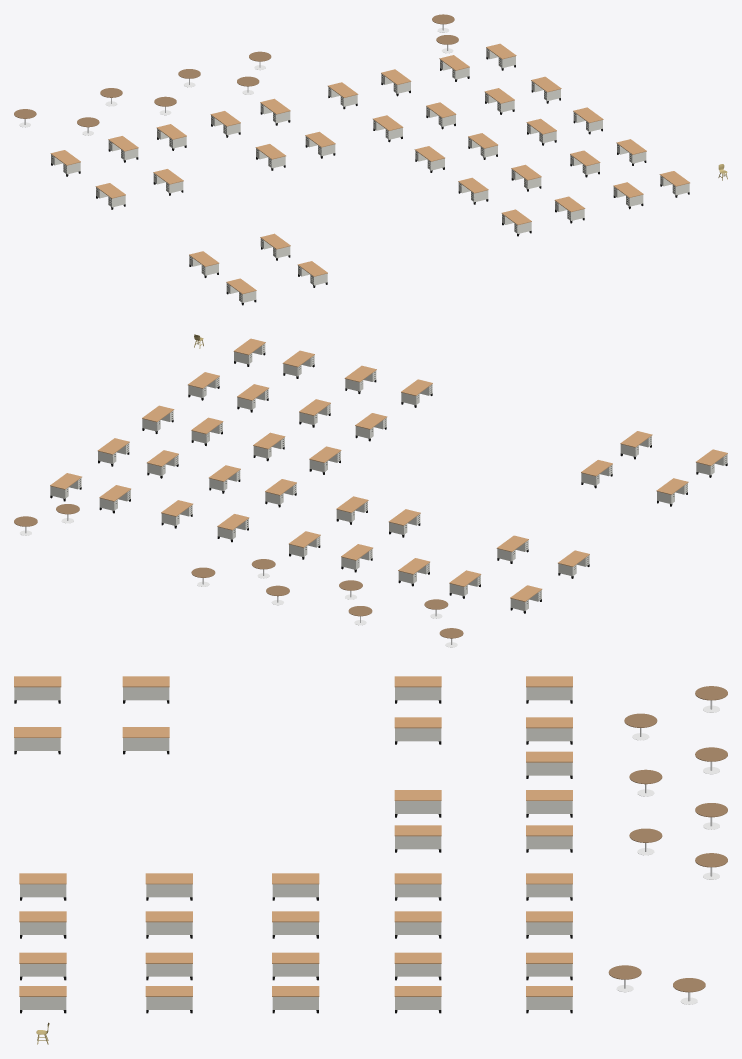
The model's file is Zoll_Base_Version3_Level_2_IfcFurnishingElement.dae.
The picture shows the model from 3 angles, top to bottom: view 1: azimuth 30°, elevation 25°; view 2: azimuth 150°, elevation 25°; view 3: azimuth 270°, elevation 25°; orthographic projection. The views are drawn at different scales.
Visible parts, largest first — view 1: 1Fxnn4hDr8PeBXFyY0uKWH, 1Fxnn4hDr8PeBXFyY0uLMJ, 1Fxnn4hDr8PeBXFyY0uL0A, 1Fxnn4hDr8PeBXFyY0uL5t, 1Fxnn4hDr8PeBXFyY0uKWG, 1Fxnn4hDr8PeBXFyY0uKd$, 1Fxnn4hDr8PeBXFyY0uKd_, 1Fxnn4hDr8PeBXFyY0uKgD, 1Fxnn4hDr8PeBXFyY0uLRH, 1Fxnn4hDr8PeBXFyY0uKdy, 1Fxnn4hDr8PeBXFyY0uKeh, 1Fxnn4hDr8PeBXFyY0uKjo (+21 smaller); view 2: 1Fxnn4hDr8PeBXFyY0uLGz, 1Fxnn4hDr8PeBXFyY0uL0A, 1Fxnn4hDr8PeBXFyY0uLRH, 1Fxnn4hDr8PeBXFyY0uKWG, 1Fxnn4hDr8PeBXFyY0uKd$, 1Fxnn4hDr8PeBXFyY0uLJX, 1Fxnn4hDr8PeBXFyY0uLKI, 1Fxnn4hDr8PeBXFyY0uKWE, 1Fxnn4hDr8PeBXFyY0uKWH, 1Fxnn4hDr8PeBXFyY0uKdy, 1Fxnn4hDr8PeBXFyY0uKgD, 1Fxnn4hDr8PeBXFyY0uKeh (+21 smaller); view 3: 1Fxnn4hDr8PeBXFyY0uKWH, 1Fxnn4hDr8PeBXFyY0uKdy, 1Fxnn4hDr8PeBXFyY0uKcX, 1Fxnn4hDr8PeBXFyY0uLHC, 1Fxnn4hDr8PeBXFyY0uKWJ, 1Fxnn4hDr8PeBXFyY0uKd_, 1Fxnn4hDr8PeBXFyY0uKgD, 1Fxnn4hDr8PeBXFyY0uKcZ, 1Fxnn4hDr8PeBXFyY0uKjo, 1Fxnn4hDr8PeBXFyY0uLNm, 1Fxnn4hDr8PeBXFyY0uLMJ, 1Fxnn4hDr8PeBXFyY0uLRH (+21 smaller).
Part boxes in pixels (x1,y1,x2,y2): 1Fxnn4hDr8PeBXFyY0uKWH: [613, 182, 643, 209]; 1Fxnn4hDr8PeBXFyY0uLMJ: [305, 131, 335, 158]; 1Fxnn4hDr8PeBXFyY0uL0A: [260, 98, 290, 125]; 1Fxnn4hDr8PeBXFyY0uL5t: [108, 136, 138, 162]; 1Fxnn4hDr8PeBXFyY0uKWG: [554, 196, 585, 223]; 1Fxnn4hDr8PeBXFyY0uKd$: [511, 164, 541, 191]; 1Fxnn4hDr8PeBXFyY0uKd_: [458, 177, 488, 204]; 1Fxnn4hDr8PeBXFyY0uKgD: [226, 278, 256, 305]; 1Fxnn4hDr8PeBXFyY0uLRH: [153, 169, 183, 195]; 1Fxnn4hDr8PeBXFyY0uKdy: [570, 150, 600, 177]; 1Fxnn4hDr8PeBXFyY0uKeh: [260, 233, 290, 260]; 1Fxnn4hDr8PeBXFyY0uKjo: [189, 251, 219, 277]; 1Fxnn4hDr8PeBXFyY0uLGz: [209, 465, 240, 493]; 1Fxnn4hDr8PeBXFyY0uL0A: [289, 531, 320, 559]; 1Fxnn4hDr8PeBXFyY0uLRH: [496, 535, 528, 563]; 1Fxnn4hDr8PeBXFyY0uKWG: [344, 365, 376, 393]; 1Fxnn4hDr8PeBXFyY0uKd$: [299, 399, 330, 427]; 1Fxnn4hDr8PeBXFyY0uLJX: [97, 438, 129, 466]; 1Fxnn4hDr8PeBXFyY0uLKI: [388, 509, 420, 537]; 1Fxnn4hDr8PeBXFyY0uKWE: [233, 338, 265, 366]; 1Fxnn4hDr8PeBXFyY0uKWH: [282, 350, 314, 378]; 1Fxnn4hDr8PeBXFyY0uKdy: [237, 384, 268, 412]; 1Fxnn4hDr8PeBXFyY0uKgD: [696, 449, 727, 477]; 1Fxnn4hDr8PeBXFyY0uKeh: [581, 460, 612, 488]; 1Fxnn4hDr8PeBXFyY0uKWH: [19, 952, 66, 980]; 1Fxnn4hDr8PeBXFyY0uKdy: [145, 952, 192, 980]; 1Fxnn4hDr8PeBXFyY0uKcX: [272, 952, 319, 980]; 1Fxnn4hDr8PeBXFyY0uLHC: [394, 952, 441, 980]; 1Fxnn4hDr8PeBXFyY0uKWJ: [19, 873, 66, 900]; 1Fxnn4hDr8PeBXFyY0uKd_: [145, 873, 192, 900]; 1Fxnn4hDr8PeBXFyY0uKgD: [14, 676, 61, 703]; 1Fxnn4hDr8PeBXFyY0uKcZ: [272, 873, 319, 900]; 1Fxnn4hDr8PeBXFyY0uKjo: [122, 676, 169, 703]; 1Fxnn4hDr8PeBXFyY0uLNm: [394, 873, 441, 900]; 1Fxnn4hDr8PeBXFyY0uLMJ: [394, 825, 441, 852]; 1Fxnn4hDr8PeBXFyY0uLRH: [394, 717, 441, 744].
Bounding box in the file's own units: 32.9 × 28.26 × 0.8196.
